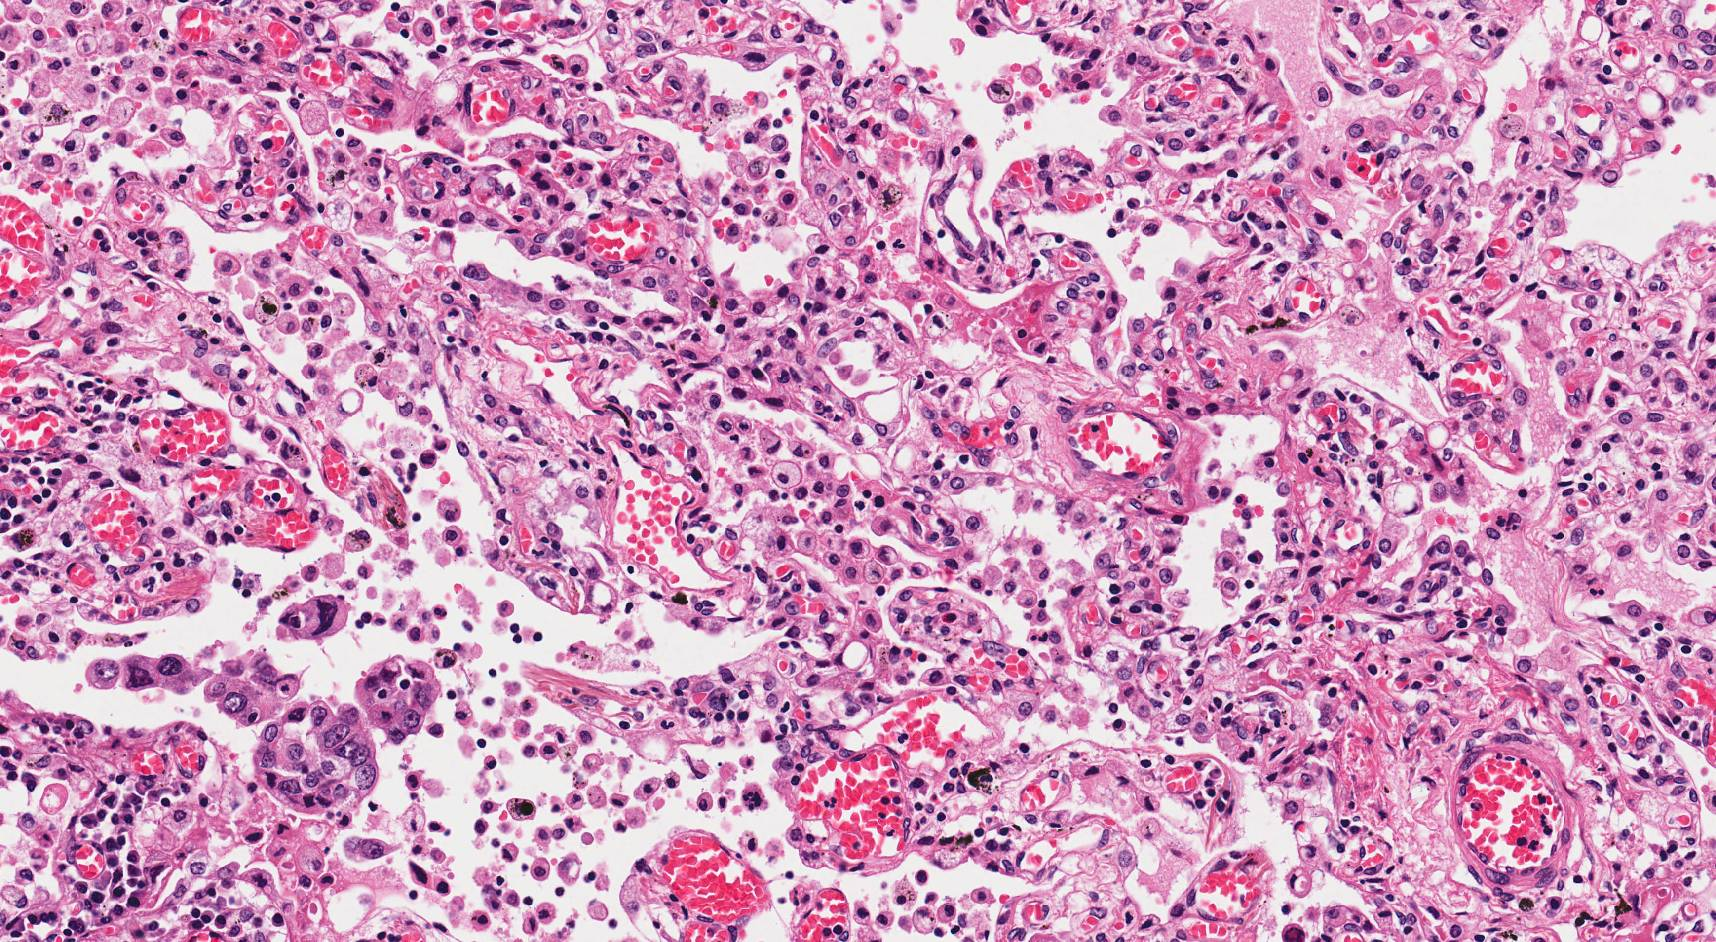stas: (86, 651, 305, 727), (253, 702, 383, 815), (354, 651, 445, 743), (276, 593, 354, 639)
